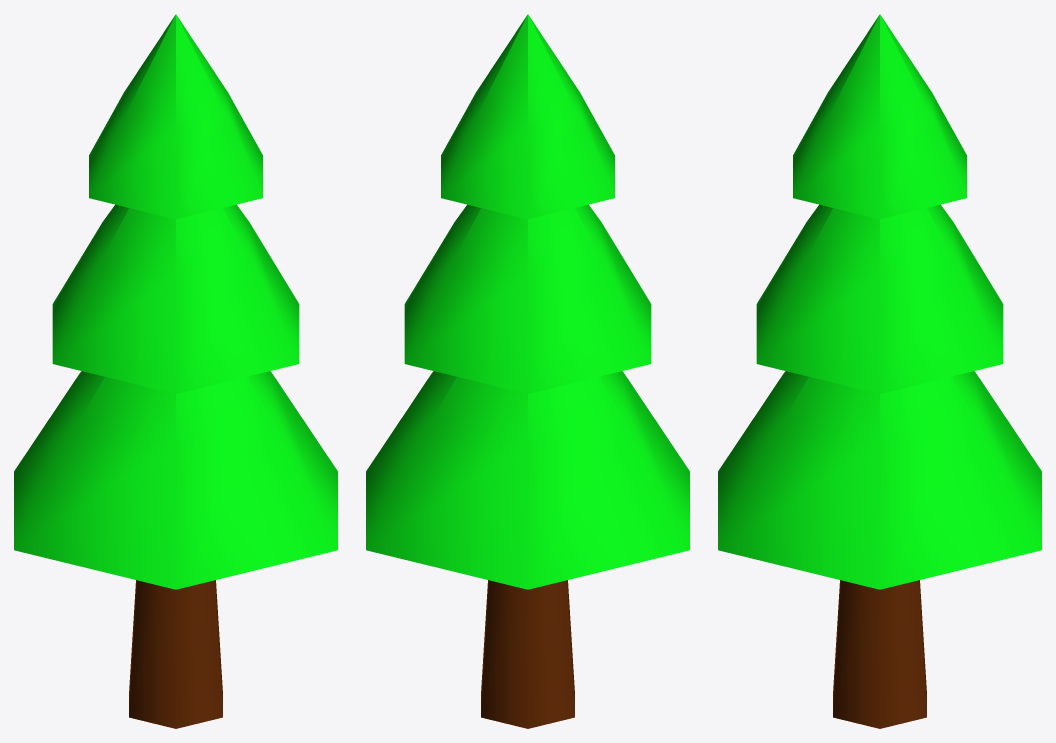
The model's file is nat_003.FBX.
3 renders of one model, left to right at view 1: azimuth 30°, elevation 25°; view 2: azimuth 150°, elevation 25°; view 3: azimuth 270°, elevation 25°, orthographic.
Parts seen in each view (by area): view 1: Cone003, Cone002, Cone001, Cylinder001; view 2: Cone003, Cone002, Cone001, Cylinder001; view 3: Cone003, Cone002, Cone001, Cylinder001.
Part boxes in pixels (bbox=[...]): Cone003: bbox=[14, 371, 337, 589]; Cone002: bbox=[52, 204, 299, 393]; Cone001: bbox=[89, 14, 262, 219]; Cylinder001: bbox=[129, 580, 222, 728]; Cone003: bbox=[366, 371, 689, 589]; Cone002: bbox=[404, 204, 651, 393]; Cone001: bbox=[441, 14, 614, 219]; Cylinder001: bbox=[481, 580, 574, 728]; Cone003: bbox=[718, 371, 1041, 589]; Cone002: bbox=[756, 204, 1003, 393]; Cone001: bbox=[793, 14, 966, 219]; Cylinder001: bbox=[833, 580, 926, 728].
Size of the model in its own units: 70.58 by 144 by 61.12.
